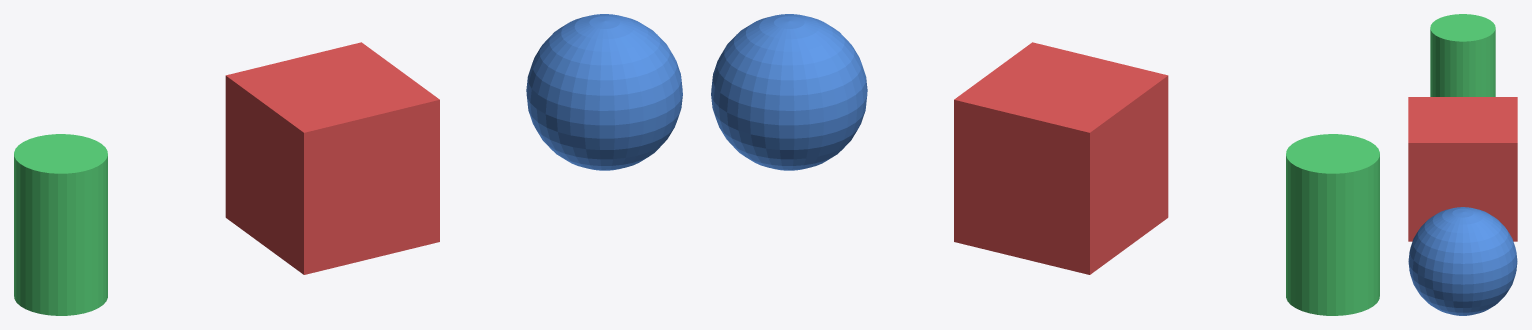
3 renders of one model, left to right at view 1: azimuth 30°, elevation 25°; view 2: azimuth 150°, elevation 25°; view 3: azimuth 270°, elevation 25°, orthographic. The views are drawn at different scales.
Parts seen in each view (by area): view 1: TestCube, TestSphere, TestCylinder; view 2: TestCube, TestSphere, TestCylinder; view 3: TestCube, TestSphere, TestCylinder.
Part boxes in pixels (box(x1,y1,x2,y2)): TestCube: box(225, 42, 439, 274); TestSphere: box(526, 14, 682, 170); TestCylinder: box(14, 134, 107, 315); TestCube: box(954, 42, 1168, 274); TestSphere: box(711, 14, 867, 170); TestCylinder: box(1286, 134, 1379, 315); TestCube: box(1408, 97, 1517, 241); TestSphere: box(1408, 207, 1517, 315); TestCylinder: box(1430, 14, 1495, 96).
Size of what is drawn, in the model's own units: 4.8 by 1 by 1.
